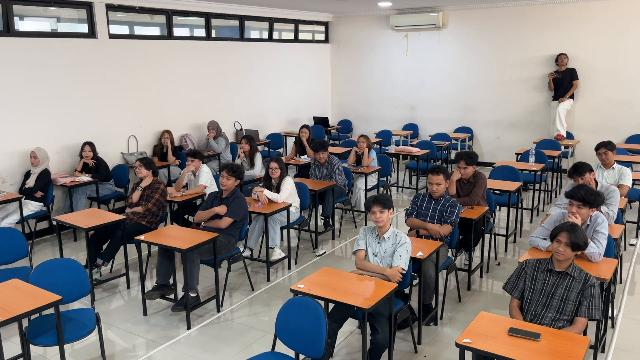bingung: (553, 236, 573, 260), (568, 199, 588, 216), (428, 178, 444, 196), (370, 209, 386, 226), (220, 171, 232, 189), (456, 163, 470, 178), (597, 150, 612, 163), (268, 162, 280, 178), (134, 162, 146, 177), (314, 151, 327, 163), (186, 156, 199, 167), (83, 146, 93, 159), (30, 152, 39, 166), (240, 139, 250, 151), (299, 128, 309, 140), (573, 176, 588, 184), (207, 125, 217, 136), (357, 139, 366, 150), (162, 134, 170, 145)
